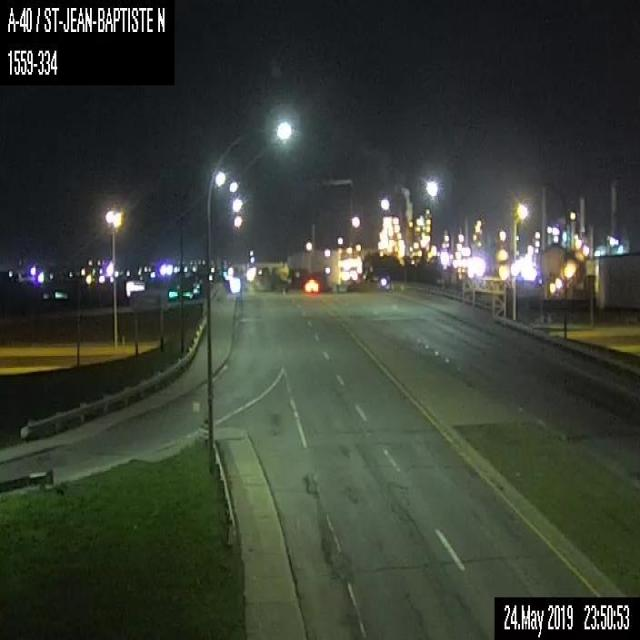vehicle: (304, 278, 318, 290)
